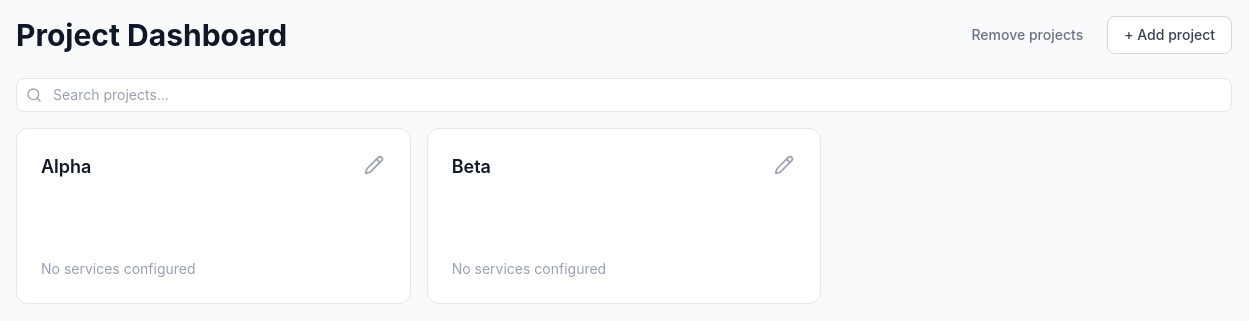
Test: ProjectDashboard › filters projects by name when searching
The image size is (1249, 321).
Check: the heading "Alpha" is shown, box [41, 156, 91, 177]
Type "Alp" into the search field with placeholder "Search projects..." at [624, 95], box [16, 78, 1232, 112]
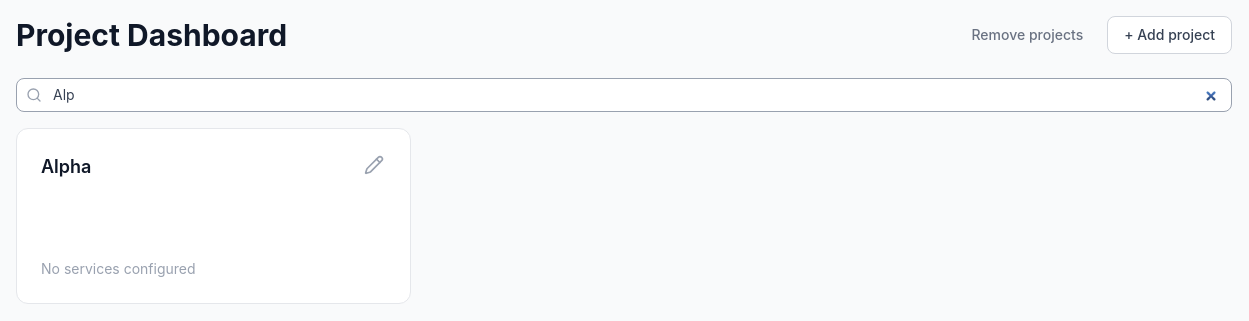
Check: the heading "Alpha" is shown, box [41, 156, 91, 177]
Check: the heading "Beta" is gone
